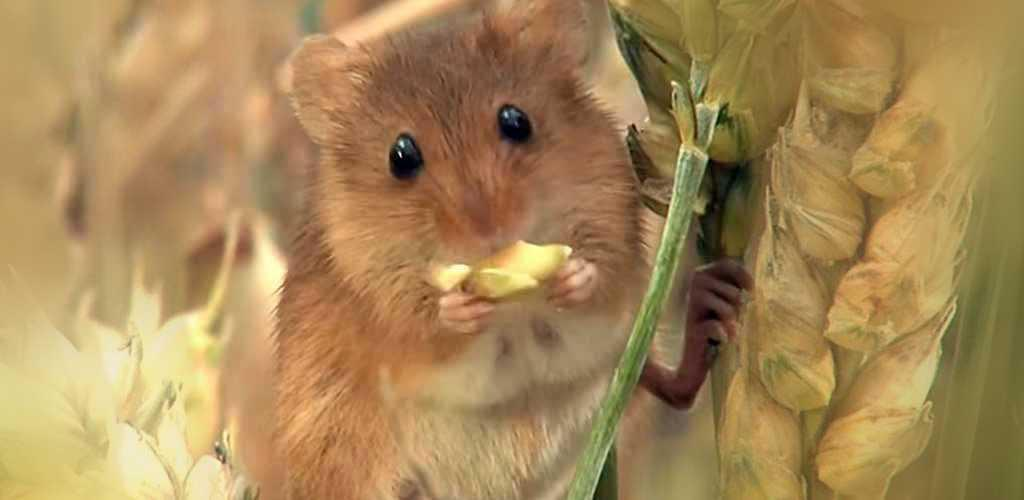rat: (274, 0, 750, 497)
